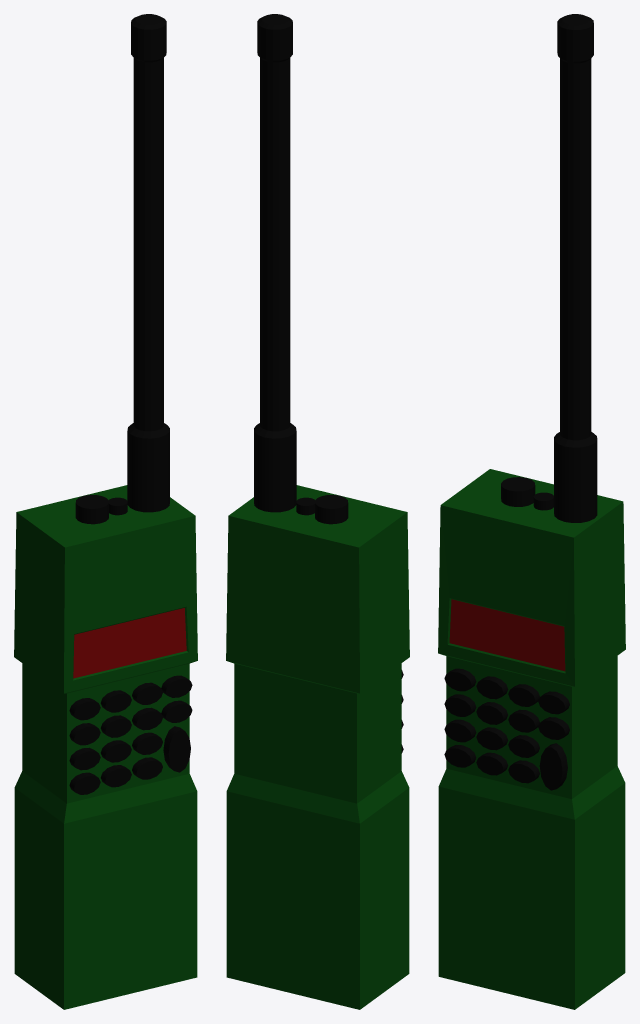
Rendered from Talkie_Walkie.fbx.
3 renders of one model, left to right at view 1: azimuth 30°, elevation 25°; view 2: azimuth 150°, elevation 25°; view 3: azimuth 330°, elevation 25°, orthographic. The views are drawn at different scales.
Parts seen in each view (by area): view 1: Talkie-walkie; view 2: Talkie-walkie; view 3: Talkie-walkie.
Boxes of the visible parts, x1=… form: Talkie-walkie: x1=14, y1=14, x2=197, y2=1009; Talkie-walkie: x1=226, y1=14, x2=409, y2=1009; Talkie-walkie: x1=438, y1=14, x2=625, y2=1009.
Size of the model in its own units: 5.27 by 35.48 by 3.57.
